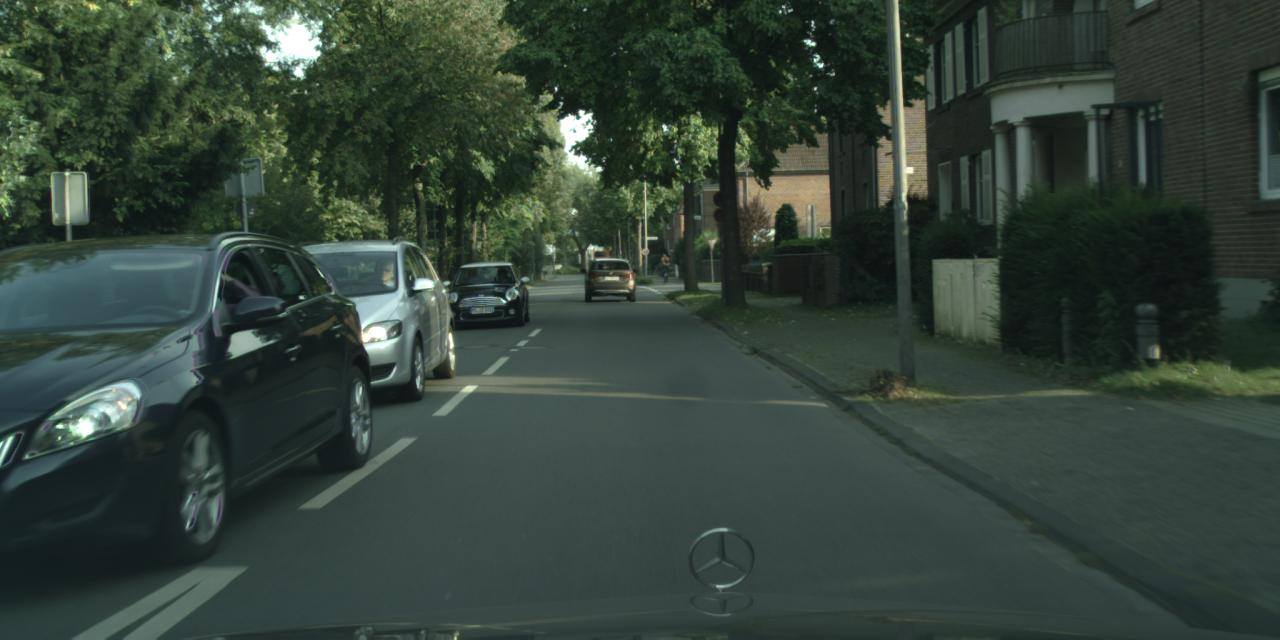ped: (659, 252, 669, 278)
